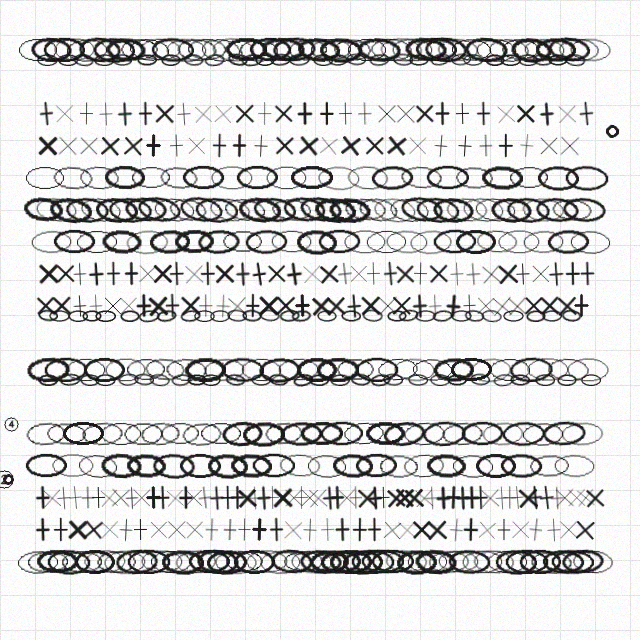chain: (207, 194, 253, 226), (136, 194, 182, 225), (178, 194, 224, 225), (298, 194, 344, 225), (399, 194, 445, 225), (78, 194, 123, 225), (356, 194, 401, 225), (415, 195, 461, 225), (48, 195, 93, 225), (222, 195, 267, 225), (252, 195, 297, 225), (372, 195, 417, 225), (387, 195, 432, 225), (382, 419, 427, 449), (166, 195, 210, 225), (313, 195, 357, 225), (34, 195, 79, 224), (237, 195, 282, 224), (282, 195, 327, 224), (473, 195, 518, 224), (547, 35, 591, 64), (152, 195, 196, 224), (461, 195, 505, 224), (127, 36, 172, 64), (296, 36, 341, 64), (94, 196, 139, 224), (108, 196, 153, 224), (194, 196, 239, 224), (468, 356, 513, 384), (22, 195, 65, 224), (199, 36, 243, 64), (357, 36, 401, 64), (65, 196, 109, 224), (269, 196, 313, 224), (506, 196, 550, 224), (521, 196, 565, 224), (535, 196, 579, 224), (562, 196, 606, 224), (76, 452, 120, 480), (487, 36, 530, 64), (510, 36, 553, 64), (328, 196, 371, 224), (432, 196, 475, 224), (490, 196, 533, 224), (550, 196, 593, 224), (180, 420, 223, 448), (211, 36, 255, 63), (261, 36, 305, 63), (272, 36, 316, 63), (369, 36, 413, 63), (379, 36, 423, 63), (424, 36, 468, 63), (464, 36, 508, 63), (399, 164, 443, 191), (124, 196, 168, 223), (343, 196, 387, 223), (445, 196, 489, 223), (475, 228, 519, 255), (26, 356, 70, 383), (164, 356, 208, 383), (376, 356, 420, 383), (509, 356, 553, 383), (546, 356, 590, 383), (80, 420, 124, 447), (342, 420, 386, 447), (402, 420, 446, 447), (422, 420, 466, 447), (440, 420, 484, 447), (542, 420, 586, 447), (278, 452, 322, 479), (402, 452, 446, 479), (115, 548, 159, 575), (196, 548, 240, 575), (270, 548, 314, 575), (384, 548, 428, 575), (561, 548, 605, 575), (571, 548, 615, 575), (158, 164, 200, 192), (30, 36, 73, 63), (78, 36, 121, 63), (175, 36, 218, 63), (404, 36, 447, 63), (557, 36, 600, 63), (51, 164, 94, 191), (78, 164, 121, 191), (346, 164, 389, 191), (143, 356, 186, 383), (24, 420, 67, 447), (139, 420, 182, 447), (221, 420, 264, 447), (100, 452, 143, 479), (174, 548, 217, 575), (414, 548, 457, 575), (472, 548, 515, 575), (436, 37, 480, 63), (565, 165, 609, 191), (125, 229, 169, 255), (197, 229, 241, 255), (409, 229, 453, 255), (258, 357, 302, 383), (481, 421, 525, 447), (560, 421, 604, 447), (152, 453, 196, 479), (47, 549, 91, 575), (214, 549, 258, 575), (529, 549, 573, 575), (263, 420, 305, 447), (65, 37, 108, 63), (151, 37, 194, 63), (319, 37, 362, 63), (450, 37, 493, 63), (523, 37, 566, 63), (569, 37, 612, 63), (317, 165, 360, 191), (371, 165, 414, 191), (30, 229, 73, 255), (245, 229, 288, 255), (385, 229, 428, 255), (522, 229, 565, 255), (547, 229, 590, 255), (203, 357, 246, 383), (221, 357, 264, 383), (393, 357, 436, 383), (411, 357, 454, 383), (242, 421, 285, 447), (280, 421, 323, 447), (502, 421, 545, 447), (521, 421, 564, 447), (451, 453, 494, 479), (500, 453, 543, 479), (553, 453, 596, 479), (16, 549, 59, 575), (26, 549, 69, 575), (103, 549, 146, 575), (161, 549, 204, 575), (290, 549, 333, 575), (299, 549, 342, 575), (427, 549, 470, 575), (448, 549, 491, 575), (542, 549, 585, 575), (551, 549, 594, 575), (355, 357, 399, 382), (566, 357, 610, 382), (127, 549, 171, 574), (351, 549, 395, 574), (505, 549, 549, 574), (93, 37, 135, 63), (105, 37, 147, 63), (165, 37, 207, 63), (238, 37, 280, 63), (287, 37, 329, 63), (475, 37, 517, 63), (535, 37, 577, 63), (481, 165, 523, 191), (537, 165, 579, 191), (101, 229, 143, 255), (149, 229, 191, 255), (296, 229, 338, 255), (569, 229, 611, 255), (433, 357, 475, 383), (45, 421, 87, 447), (207, 453, 249, 479), (230, 453, 272, 479), (306, 453, 348, 479), (332, 453, 374, 479), (378, 453, 420, 479), (528, 453, 570, 479), (206, 549, 248, 575), (259, 549, 301, 575), (320, 549, 362, 575), (342, 549, 384, 575), (396, 549, 438, 575), (495, 549, 537, 575), (53, 37, 96, 62), (139, 37, 182, 62), (249, 37, 292, 62), (309, 37, 352, 62), (182, 165, 225, 190), (210, 165, 253, 190), (290, 165, 333, 190), (426, 165, 469, 190), (53, 229, 96, 254), (75, 229, 118, 254), (270, 229, 313, 254), (318, 229, 361, 254), (343, 229, 386, 254), (433, 229, 476, 254), (497, 229, 540, 254), (44, 357, 87, 382), (64, 357, 107, 382), (83, 357, 126, 382), (104, 357, 147, 382), (240, 357, 283, 382), (277, 357, 320, 382), (316, 357, 359, 382), (450, 357, 493, 382), (488, 357, 531, 382), (526, 357, 569, 382), (62, 421, 105, 446), (99, 421, 142, 446), (199, 421, 242, 446), (300, 421, 343, 446), (320, 421, 363, 446), (461, 421, 504, 446), (51, 453, 94, 478), (179, 453, 222, 478), (252, 453, 295, 478), (60, 549, 103, 574), (83, 549, 126, 574), (140, 549, 183, 574), (149, 549, 192, 574), (233, 549, 276, 574), (245, 549, 288, 574), (329, 549, 372, 574), (361, 549, 404, 574), (371, 549, 414, 574), (437, 549, 480, 574), (332, 37, 373, 63), (454, 165, 495, 191), (126, 453, 167, 479), (426, 453, 467, 479), (309, 549, 350, 575), (17, 37, 59, 62), (43, 37, 85, 62), (186, 37, 228, 62), (225, 37, 267, 62), (346, 37, 388, 62), (391, 37, 433, 62), (415, 37, 457, 62), (24, 165, 66, 190), (104, 165, 146, 190), (130, 165, 172, 190), (236, 165, 278, 190), (265, 165, 307, 190), (508, 165, 550, 190), (221, 229, 263, 254), (365, 229, 407, 254), (455, 229, 497, 254), (125, 357, 167, 382), (184, 357, 226, 382), (296, 357, 338, 382), (122, 421, 164, 446), (159, 421, 201, 446), (25, 453, 67, 478), (355, 453, 397, 478), (475, 453, 517, 478), (36, 549, 78, 574), (74, 549, 116, 574), (95, 549, 137, 574), (188, 549, 230, 574), (282, 549, 324, 574), (406, 549, 448, 574), (461, 549, 503, 574), (486, 549, 528, 574), (519, 549, 561, 574), (119, 37, 160, 62), (500, 37, 541, 62), (174, 229, 215, 254), (335, 357, 376, 382), (365, 421, 406, 446), (224, 549, 265, 574), (292, 372, 314, 388), (227, 52, 248, 67), (430, 52, 451, 67), (398, 308, 419, 323), (241, 53, 263, 67), (564, 53, 586, 67), (138, 309, 160, 323), (493, 373, 515, 387), (73, 53, 94, 67), (183, 53, 204, 67), (204, 53, 225, 67), (369, 53, 390, 67), (532, 53, 553, 67), (156, 309, 177, 323), (180, 309, 201, 323), (291, 309, 312, 323), (432, 309, 453, 323), (464, 309, 485, 323), (481, 309, 502, 323), (149, 373, 170, 387), (171, 373, 192, 387), (225, 373, 246, 387), (268, 373, 289, 387), (370, 373, 391, 387), (59, 373, 81, 386), (270, 53, 291, 66), (289, 53, 310, 66), (259, 309, 280, 322), (279, 309, 300, 322), (362, 309, 383, 322), (561, 309, 582, 322), (118, 373, 139, 386), (350, 373, 371, 386), (346, 53, 366, 66), (393, 53, 413, 66), (451, 53, 471, 66), (38, 309, 58, 322), (227, 309, 247, 322), (242, 309, 262, 322), (134, 373, 154, 386), (383, 373, 403, 386), (470, 373, 490, 386), (37, 54, 58, 66), (94, 54, 115, 66), (500, 54, 521, 66), (49, 310, 70, 322), (95, 310, 116, 322), (194, 310, 215, 322), (415, 310, 436, 322), (451, 310, 472, 322), (503, 310, 524, 322), (95, 374, 116, 386), (58, 54, 78, 66), (112, 54, 132, 66), (137, 54, 157, 66), (161, 54, 181, 66), (255, 54, 275, 66), (313, 54, 333, 66), (328, 54, 348, 66), (409, 54, 429, 66), (463, 54, 483, 66), (485, 54, 505, 66), (518, 54, 538, 66), (548, 54, 568, 66), (68, 310, 88, 322), (82, 310, 102, 322), (120, 310, 140, 322), (210, 310, 230, 322), (317, 310, 337, 322), (341, 310, 361, 322), (387, 310, 407, 322), (526, 310, 546, 322), (542, 310, 562, 322), (38, 374, 58, 386), (80, 374, 100, 386), (187, 374, 207, 386), (201, 374, 221, 386), (251, 374, 271, 386), (309, 374, 329, 386), (330, 374, 350, 386), (408, 374, 428, 386), (430, 374, 450, 386), (447, 374, 467, 386), (510, 374, 530, 386), (535, 374, 555, 386), (557, 374, 577, 386), (581, 374, 601, 386)
noise: (0, 468, 16, 491), (2, 415, 20, 433), (604, 123, 621, 140), (2, 473, 14, 485)
single: (245, 260, 273, 288), (280, 260, 308, 288), (33, 100, 60, 127), (573, 100, 600, 127), (295, 132, 322, 159), (315, 132, 342, 159), (337, 132, 364, 159), (383, 132, 410, 159), (513, 132, 540, 159), (331, 260, 358, 287), (377, 260, 404, 287), (62, 484, 89, 511), (191, 484, 218, 511), (504, 484, 531, 511), (522, 484, 549, 511), (533, 484, 560, 511), (572, 484, 599, 511), (80, 516, 107, 543), (522, 516, 549, 543), (93, 101, 119, 127), (112, 101, 138, 127), (171, 101, 197, 127), (190, 101, 216, 127), (210, 101, 236, 127), (493, 101, 519, 127), (534, 101, 560, 127), (554, 101, 580, 127), (97, 133, 123, 159), (120, 133, 146, 159), (248, 133, 274, 159), (428, 133, 454, 159), (452, 133, 478, 159), (67, 261, 93, 287), (83, 261, 109, 287), (181, 261, 207, 287), (230, 261, 256, 287), (299, 261, 325, 287), (316, 261, 342, 287), (392, 261, 418, 287), (444, 261, 470, 287), (460, 261, 486, 287), (478, 261, 504, 287), (495, 261, 521, 287), (510, 261, 536, 287), (543, 261, 569, 287), (67, 293, 93, 319), (83, 293, 109, 319), (145, 293, 171, 319), (210, 293, 236, 319), (224, 293, 250, 319), (308, 293, 334, 319), (323, 293, 349, 319), (341, 293, 367, 319), (407, 293, 433, 319), (422, 293, 448, 319), (440, 293, 466, 319), (489, 293, 515, 319), (504, 293, 530, 319), (554, 293, 580, 319), (39, 485, 65, 511), (51, 485, 77, 511), (96, 485, 122, 511), (119, 485, 145, 511), (162, 485, 188, 511), (204, 485, 230, 511), (234, 485, 260, 511), (242, 485, 268, 511), (251, 485, 277, 511), (305, 485, 331, 511), (317, 485, 343, 511), (354, 485, 380, 511), (362, 485, 388, 511), (383, 485, 409, 511), (401, 485, 427, 511), (411, 485, 437, 511), (419, 485, 445, 511), (430, 485, 456, 511), (450, 485, 476, 511), (477, 485, 503, 511), (489, 485, 515, 511), (515, 485, 541, 511), (544, 485, 570, 511), (582, 485, 608, 511), (113, 517, 139, 543), (280, 517, 306, 543), (297, 517, 323, 543), (379, 517, 405, 543), (394, 517, 420, 543), (424, 517, 450, 543), (443, 517, 469, 543), (474, 517, 500, 543), (541, 517, 567, 543), (572, 517, 598, 543), (52, 101, 77, 126), (74, 101, 99, 126), (133, 101, 158, 126), (152, 101, 177, 126), (232, 101, 257, 126), (252, 101, 277, 126), (271, 101, 296, 126), (292, 101, 317, 126), (314, 101, 339, 126), (333, 101, 358, 126), (352, 101, 377, 126), (374, 101, 399, 126), (393, 101, 418, 126), (412, 101, 437, 126), (430, 101, 455, 126), (450, 101, 475, 126), (471, 101, 496, 126), (513, 101, 538, 126), (35, 133, 60, 158), (55, 133, 80, 158), (76, 133, 101, 158), (141, 133, 166, 158), (164, 133, 189, 158), (184, 133, 209, 158), (207, 133, 232, 158), (227, 133, 252, 158), (272, 133, 297, 158), (362, 133, 387, 158), (405, 133, 430, 158), (473, 133, 498, 158), (493, 133, 518, 158), (536, 133, 561, 158), (557, 133, 582, 158), (36, 261, 61, 286), (53, 261, 78, 286), (101, 261, 126, 286), (119, 261, 144, 286), (135, 261, 160, 286), (150, 261, 175, 286), (164, 261, 189, 286), (195, 261, 220, 286), (212, 261, 237, 286), (264, 261, 289, 286), (346, 261, 371, 286), (361, 261, 386, 286), (408, 261, 433, 286), (426, 261, 451, 286), (528, 261, 553, 286), (560, 261, 585, 286), (575, 261, 600, 286), (33, 293, 58, 318), (49, 293, 74, 318), (100, 293, 125, 318), (116, 293, 141, 318), (131, 293, 156, 318), (160, 293, 185, 318), (178, 293, 203, 318), (193, 293, 218, 318), (240, 293, 265, 318), (256, 293, 281, 318), (273, 293, 298, 318), (290, 293, 315, 318), (358, 293, 383, 318), (375, 293, 400, 318), (389, 293, 414, 318), (457, 293, 482, 318), (473, 293, 498, 318), (521, 293, 546, 318), (537, 293, 562, 318), (569, 293, 594, 318), (30, 485, 55, 510), (75, 485, 100, 510), (86, 485, 111, 510), (108, 485, 133, 510), (129, 485, 154, 510), (141, 485, 166, 510), (150, 485, 175, 510), (173, 485, 198, 510), (181, 485, 206, 510), (215, 485, 240, 510), (225, 485, 250, 510), (260, 485, 285, 510), (270, 485, 295, 510), (281, 485, 306, 510), (289, 485, 314, 510), (297, 485, 322, 510), (325, 485, 350, 510), (334, 485, 359, 510), (343, 485, 368, 510), (371, 485, 396, 510), (392, 485, 417, 510), (441, 485, 466, 510), (459, 485, 484, 510), (468, 485, 493, 510), (497, 485, 522, 510), (552, 485, 577, 510), (564, 485, 589, 510), (30, 517, 55, 542), (48, 517, 73, 542), (65, 517, 90, 542), (97, 517, 122, 542), (128, 517, 153, 542), (146, 517, 171, 542), (164, 517, 189, 542), (182, 517, 207, 542), (199, 517, 224, 542), (217, 517, 242, 542), (232, 517, 257, 542), (247, 517, 272, 542), (264, 517, 289, 542), (315, 517, 340, 542), (330, 517, 355, 542), (347, 517, 372, 542), (362, 517, 387, 542), (409, 517, 434, 542), (458, 517, 483, 542), (491, 517, 516, 542), (508, 517, 533, 542), (556, 517, 581, 542)
